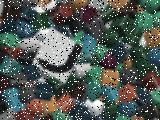Right: (32, 27, 84, 84)
